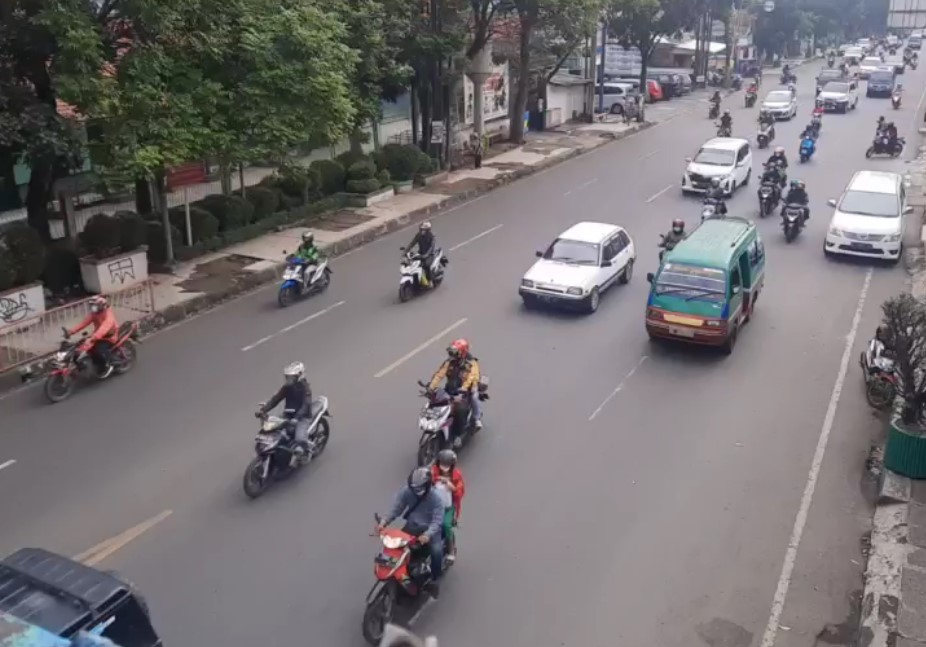motor: (357, 461, 464, 632), (245, 365, 343, 488), (48, 294, 147, 403), (414, 334, 485, 447), (278, 228, 333, 301), (398, 223, 452, 296)
